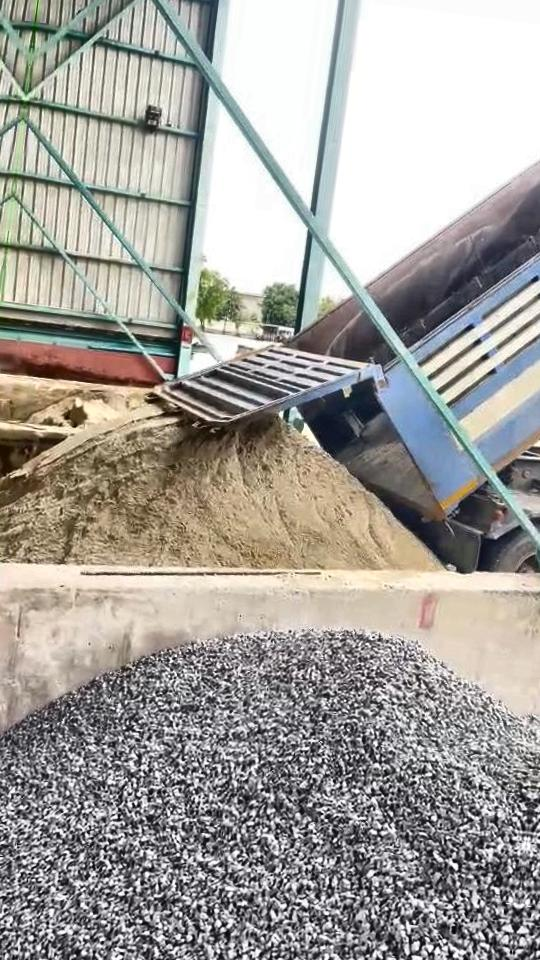gravel: (0, 631, 540, 960)
sand: (0, 406, 441, 571), (0, 384, 147, 434)
